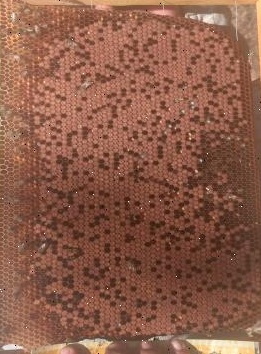cria: (29, 16, 261, 336)
